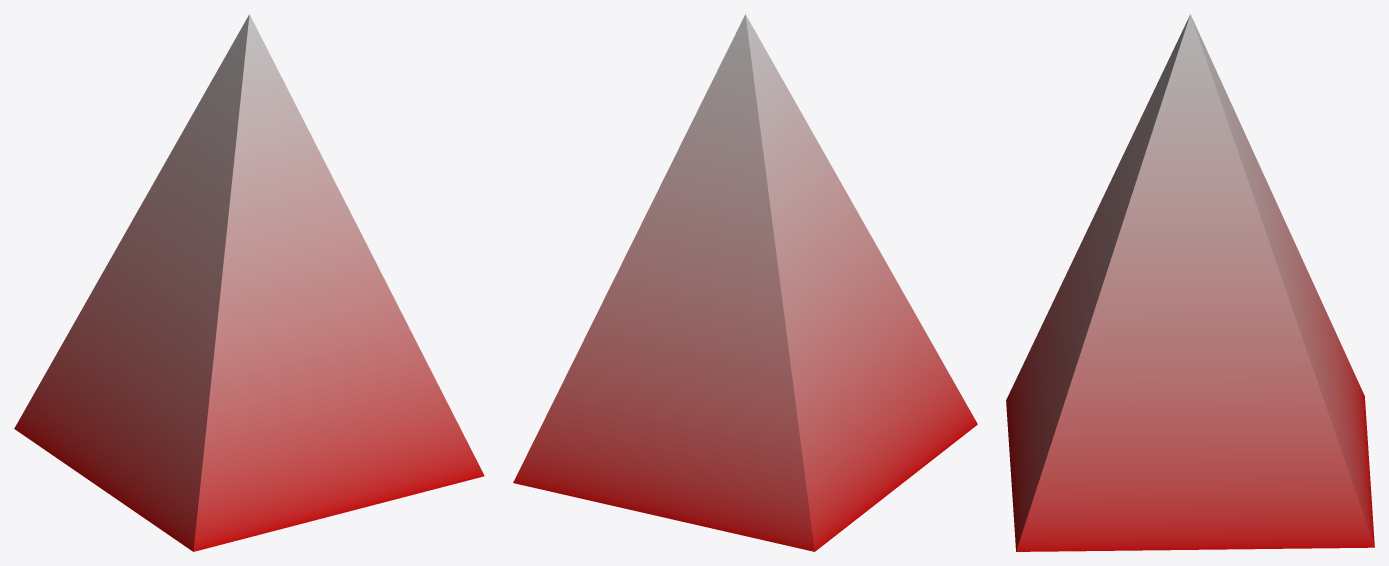
File: Windmill_Body.fbx
3 renders of one model, left to right at view 1: azimuth 30°, elevation 25°; view 2: azimuth 150°, elevation 25°; view 3: azimuth 270°, elevation 25°, orthographic. The views are drawn at different scales.
Visible parts, largest first — view 1: Cone; view 2: Cone; view 3: Cone.
Part boxes in pixels (x1=…): Cone: x1=14, y1=14, x2=484, y2=551; Cone: x1=513, y1=14, x2=977, y2=551; Cone: x1=1006, y1=14, x2=1374, y2=551.
Bounding box in the file's own units: 291 × 400 × 291.
